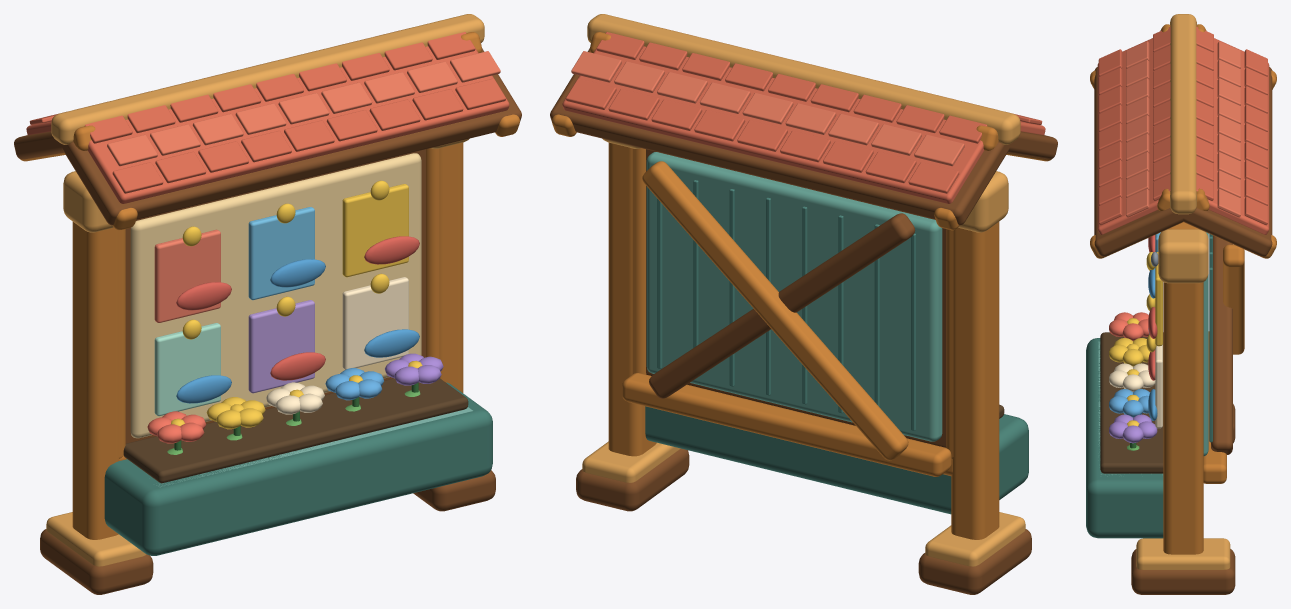
Rendered from notice-board.glb.
3 renders of one model, left to right at view 1: azimuth 30°, elevation 25°; view 2: azimuth 150°, elevation 25°; view 3: azimuth 270°, elevation 25°, orthographic. The views are drawn at different scales.
Parts seen in each view (by area): view 1: mint-flower-planter-with-five-plants-surface-0, notice-surface-and-wood-frame-surface-2, wood-frame-two-posts-and-ground-feet-surface-0, mint-flower-planter-with-five-plants-surface-4, front-roof-slope-surface-2, front-roof-slope-surface-0, gabled-roof-cap-and-coral-tiles-surface-2, wood-frame-two-posts-and-ground-feet-surface-10, notice-card-3-surface-0, notice-card-2-surface-0, notice-card-1-surface-0, notice-card-4-surface-0 (+44 smaller); view 2: finished-weatherproof-backside-and-cross-braces-surface-0, wood-frame-two-posts-and-ground-feet-surface-0, mint-flower-planter-with-five-plants-surface-0, finished-weatherproof-backside-and-cross-braces-surface-12, rear-roof-slope-surface-2, rear-roof-slope-surface-0, finished-weatherproof-backside-and-cross-braces-surface-14, gabled-roof-cap-and-coral-tiles-surface-2, wood-frame-two-posts-and-ground-feet-surface-10, finished-weatherproof-backside-and-cross-braces-surface-10, wood-frame-two-posts-and-ground-feet-surface-2, wood-frame-two-posts-and-ground-feet-surface-12 (+42 smaller); view 3: wood-frame-two-posts-and-ground-feet-surface-10, mint-flower-planter-with-five-plants-surface-0, gabled-roof-cap-and-coral-tiles-surface-2, mint-flower-planter-with-five-plants-surface-4, finished-weatherproof-backside-and-cross-braces-surface-10, wood-frame-two-posts-and-ground-feet-surface-12, wood-frame-two-posts-and-ground-feet-surface-16, rear-roof-slope-surface-0, front-roof-slope-surface-0, wood-frame-two-posts-and-ground-feet-surface-14, rear-roof-slope-surface-2, front-roof-slope-surface-2 (+67 smaller).
Boxes of the visible parts, left/top/right/bottom form: mint-flower-planter-with-five-plants-surface-0: left=104, top=382, right=492, bottom=555; notice-surface-and-wood-frame-surface-2: left=130, top=153, right=421, bottom=438; wood-frame-two-posts-and-ground-feet-surface-0: left=72, top=222, right=119, bottom=539; mint-flower-planter-with-five-plants-surface-4: left=123, top=378, right=468, bottom=483; front-roof-slope-surface-2: left=87, top=46, right=509, bottom=203; front-roof-slope-surface-0: left=59, top=48, right=521, bottom=225; gabled-roof-cap-and-coral-tiles-surface-2: left=51, top=14, right=484, bottom=144; wood-frame-two-posts-and-ground-feet-surface-10: left=439, top=142, right=463, bottom=392; notice-card-3-surface-0: left=342, top=184, right=408, bottom=277; notice-card-2-surface-0: left=248, top=207, right=314, bottom=300; notice-card-1-surface-0: left=154, top=229, right=220, bottom=322; notice-card-4-surface-0: left=154, top=323, right=220, bottom=416; finished-weatherproof-backside-and-cross-braces-surface-0: left=646, top=152, right=942, bottom=441; wood-frame-two-posts-and-ground-feet-surface-0: left=951, top=222, right=999, bottom=539; mint-flower-planter-with-five-plants-surface-0: left=645, top=406, right=1028, bottom=514; finished-weatherproof-backside-and-cross-braces-surface-12: left=642, top=161, right=908, bottom=460; rear-roof-slope-surface-2: left=562, top=46, right=984, bottom=203; rear-roof-slope-surface-0: left=550, top=48, right=1012, bottom=225; finished-weatherproof-backside-and-cross-braces-surface-14: left=622, top=373, right=951, bottom=476; gabled-roof-cap-and-coral-tiles-surface-2: left=587, top=14, right=1020, bottom=144; wood-frame-two-posts-and-ground-feet-surface-10: left=608, top=142, right=656, bottom=456; finished-weatherproof-backside-and-cross-braces-surface-10: left=649, top=213, right=915, bottom=398; wood-frame-two-posts-and-ground-feet-surface-2: left=918, top=529, right=1031, bottom=594; wood-frame-two-posts-and-ground-feet-surface-12: left=576, top=448, right=689, bottom=511; wood-frame-two-posts-and-ground-feet-surface-10: left=1163, top=282, right=1203, bottom=554; mint-flower-planter-with-five-plants-surface-0: left=1086, top=338, right=1163, bottom=538; gabled-roof-cap-and-coral-tiles-surface-2: left=1170, top=14, right=1196, bottom=214; mint-flower-planter-with-five-plants-surface-4: left=1100, top=332, right=1163, bottom=473; finished-weatherproof-backside-and-cross-braces-surface-10: left=1211, top=235, right=1232, bottom=454; wood-frame-two-posts-and-ground-feet-surface-12: left=1131, top=549, right=1235, bottom=594; wood-frame-two-posts-and-ground-feet-surface-16: left=1158, top=229, right=1208, bottom=283; rear-roof-slope-surface-0: left=1170, top=67, right=1272, bottom=256; front-roof-slope-surface-0: left=1094, top=67, right=1196, bottom=256; wood-frame-two-posts-and-ground-feet-surface-14: left=1136, top=538, right=1230, bottom=569; rear-roof-slope-surface-2: left=1208, top=38, right=1269, bottom=234; front-roof-slope-surface-2: left=1097, top=38, right=1158, bottom=234.
Size of the model in its own units: 1.68 by 1.75 by 0.7407.
